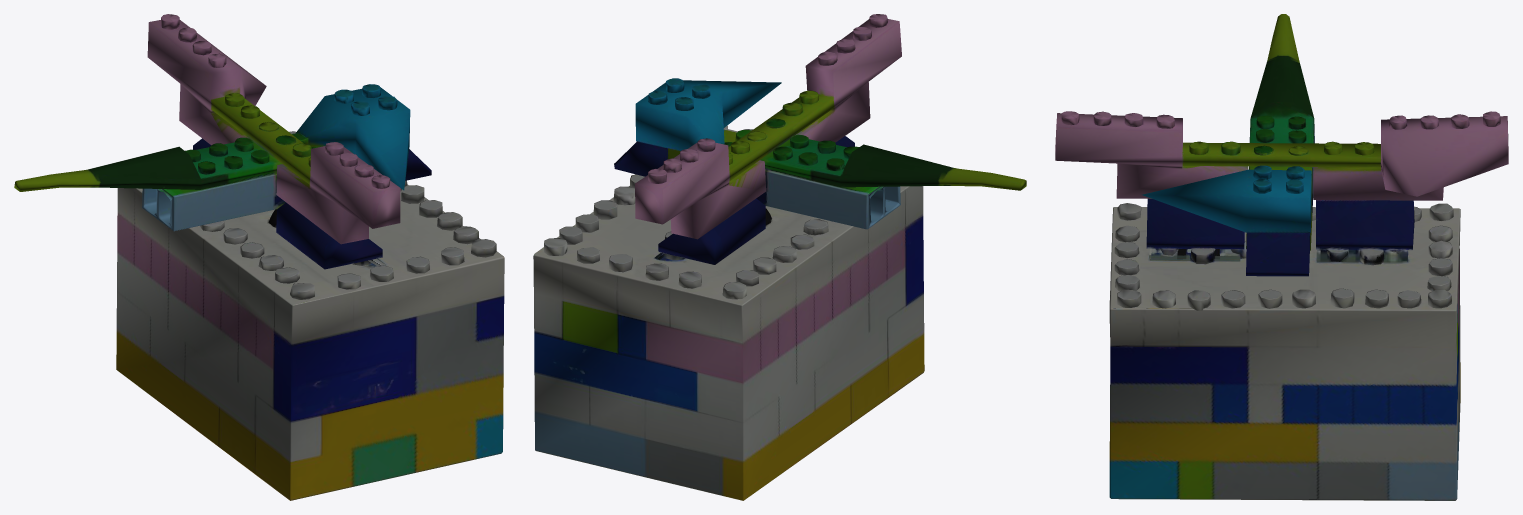
The model's file is object_32_asset_367ff86f.glb.
3 renders of one model, left to right at view 1: azimuth 30°, elevation 25°; view 2: azimuth 150°, elevation 25°; view 3: azimuth 270°, elevation 25°, orthographic. The views are drawn at different scales.
Visible parts, largest first — view 1: tripo_node_49cc6b8b-f8a3-4570-a6e1-632cb7fa58c6; view 2: tripo_node_49cc6b8b-f8a3-4570-a6e1-632cb7fa58c6; view 3: tripo_node_49cc6b8b-f8a3-4570-a6e1-632cb7fa58c6.
Boxes of the visible parts, x1,y1,x2,y2 form: tripo_node_49cc6b8b-f8a3-4570-a6e1-632cb7fa58c6: (14,14,504,500); tripo_node_49cc6b8b-f8a3-4570-a6e1-632cb7fa58c6: (533,14,1026,500); tripo_node_49cc6b8b-f8a3-4570-a6e1-632cb7fa58c6: (1055,14,1508,500).
Bounding box in the file's own units: 0.998 × 0.7754 × 0.998.
Materials: 1 (1 with a texture image).
